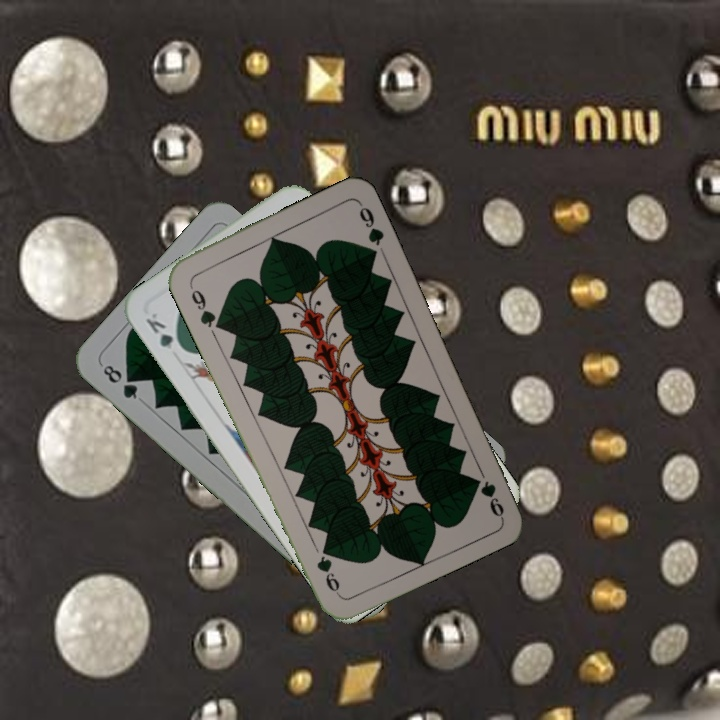G8: (98, 360, 141, 402)
G9: (185, 279, 224, 332), (473, 475, 507, 520)
GK: (141, 308, 188, 356)
